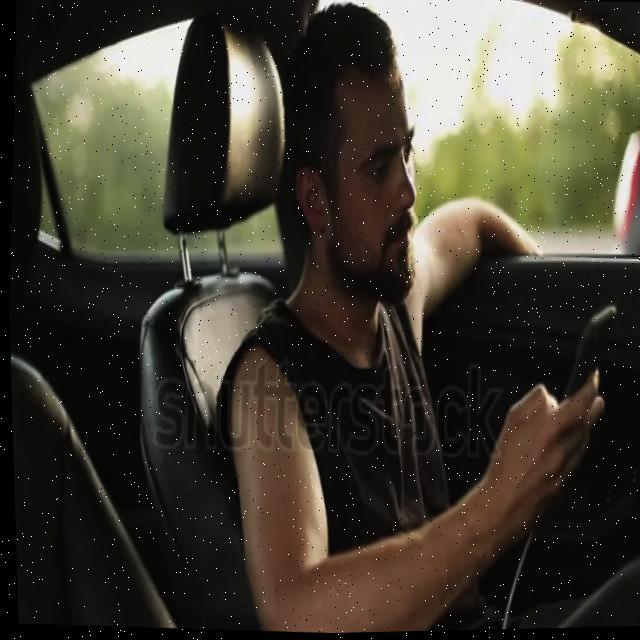PhoneCall: (562, 301, 614, 447)
